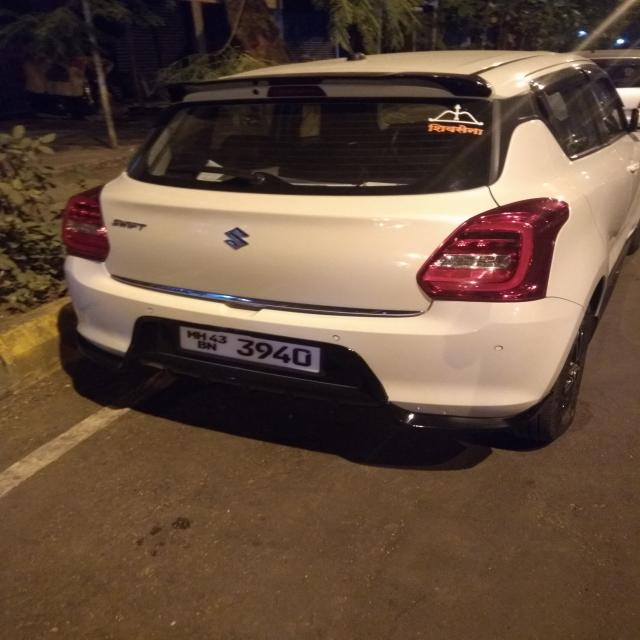Number-Plate: (185, 323, 321, 369)
